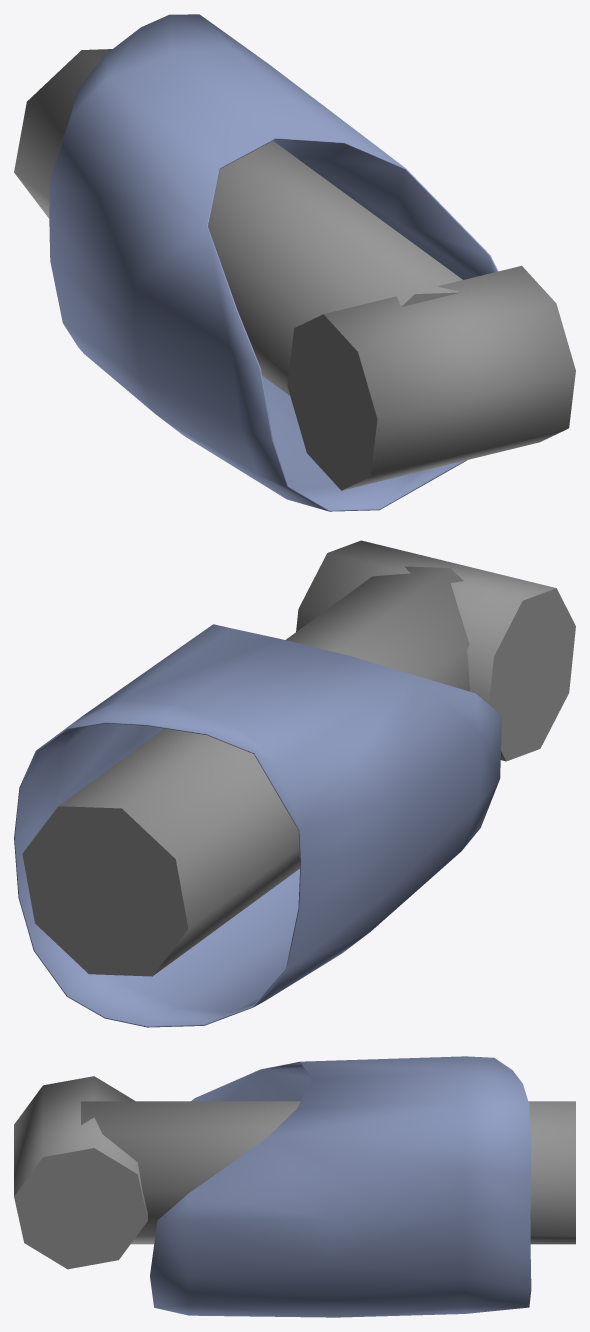
File: icub_simple_r_thigh.dae
The picture shows the model from 3 angles, top to bottom: view 1: azimuth 30°, elevation 25°; view 2: azimuth 150°, elevation 25°; view 3: azimuth 270°, elevation 25°; orthographic projection. The views are drawn at different scales.
Parts seen in each view (by area): view 1: r_thigh_mesh; view 2: r_thigh_mesh; view 3: r_thigh_mesh.
Part boxes in pixels (<box>): r_thigh_mesh: <box>14,14,575,511</box>; r_thigh_mesh: <box>14,540,575,1027</box>; r_thigh_mesh: <box>14,1056,575,1317</box>.
Size of the model in its own units: 0.1024 by 0.1173 by 0.2543.
